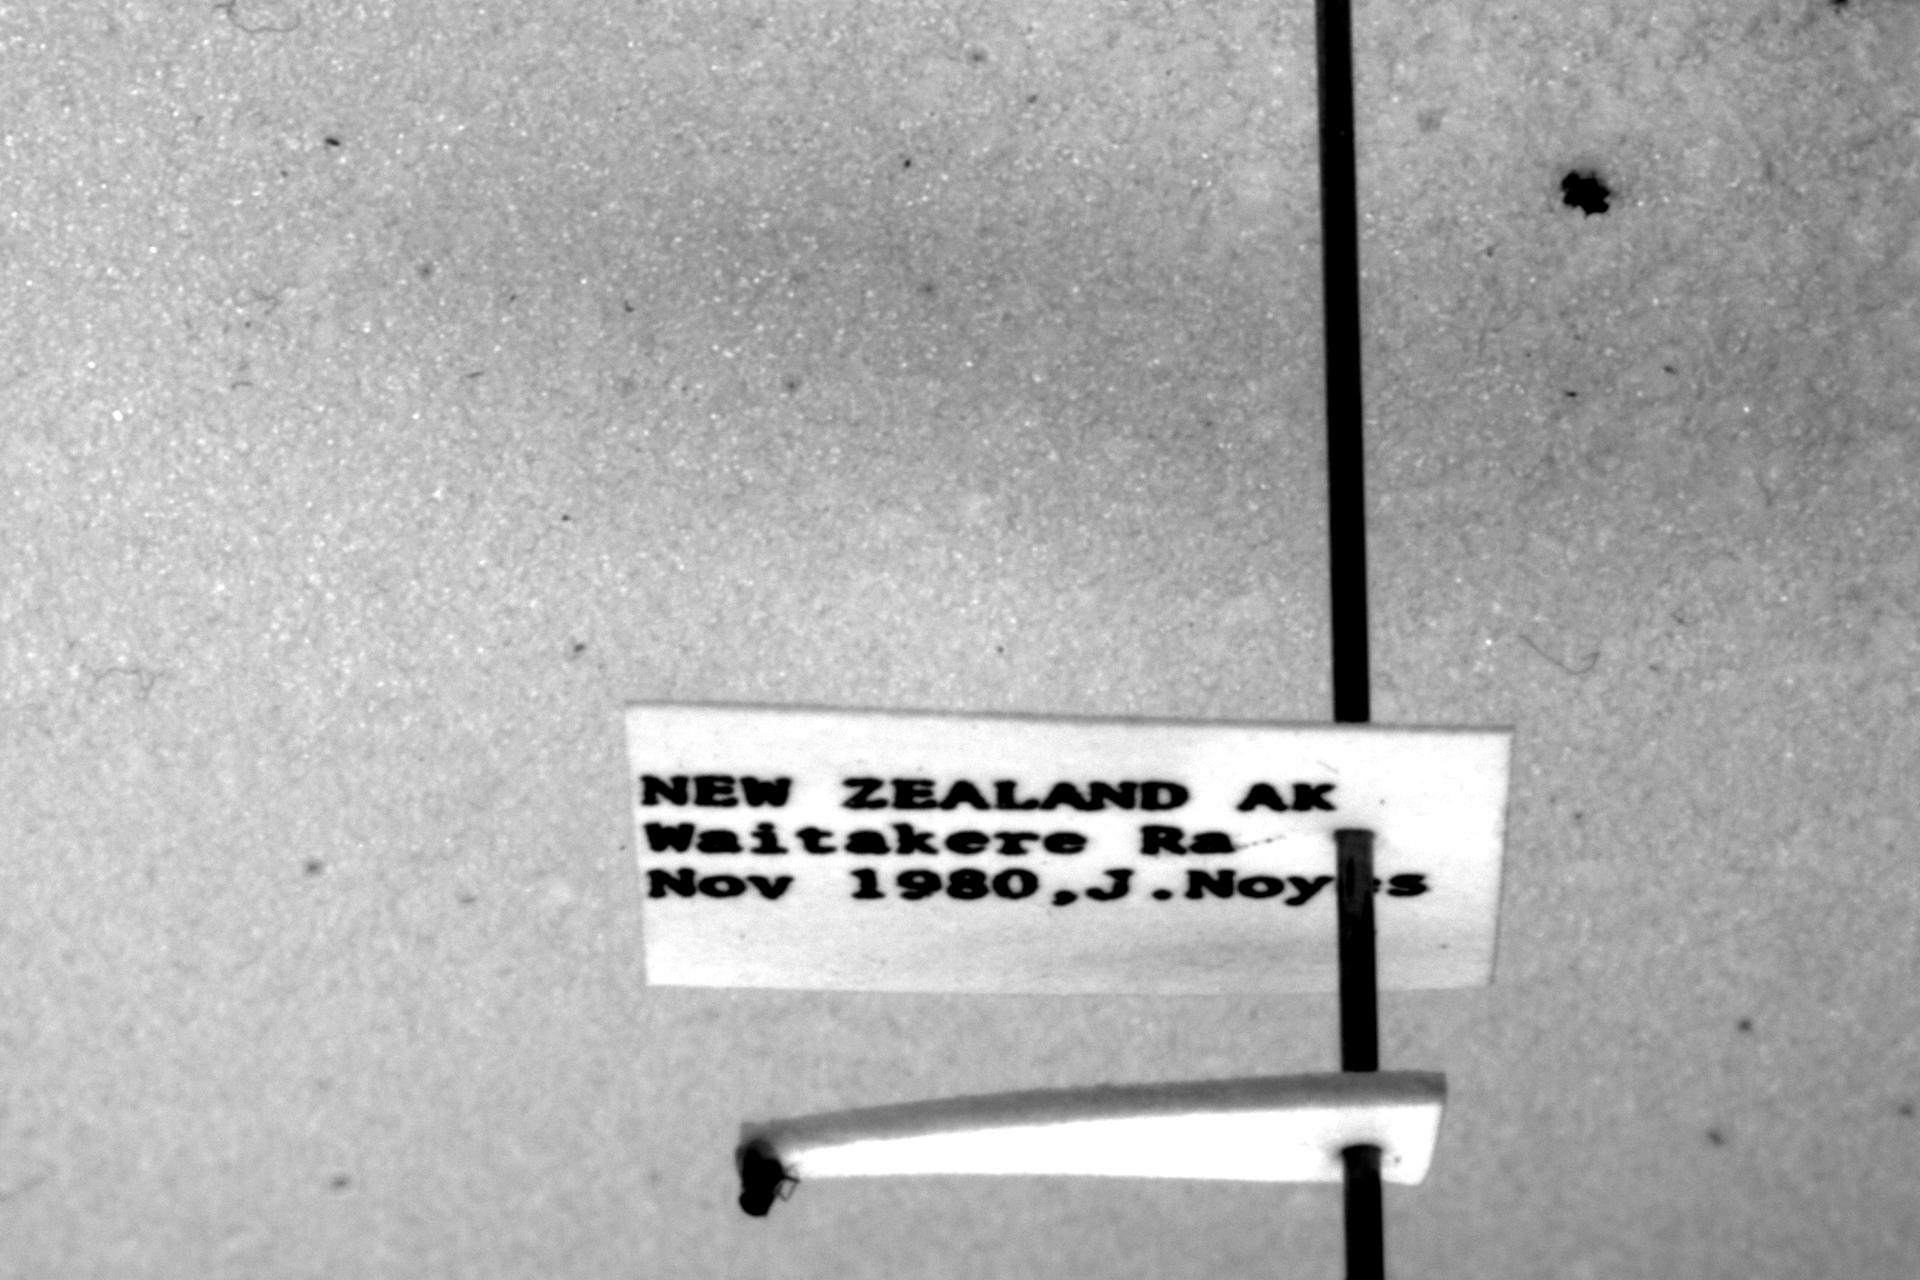typed_label: (626, 705, 1511, 994)
